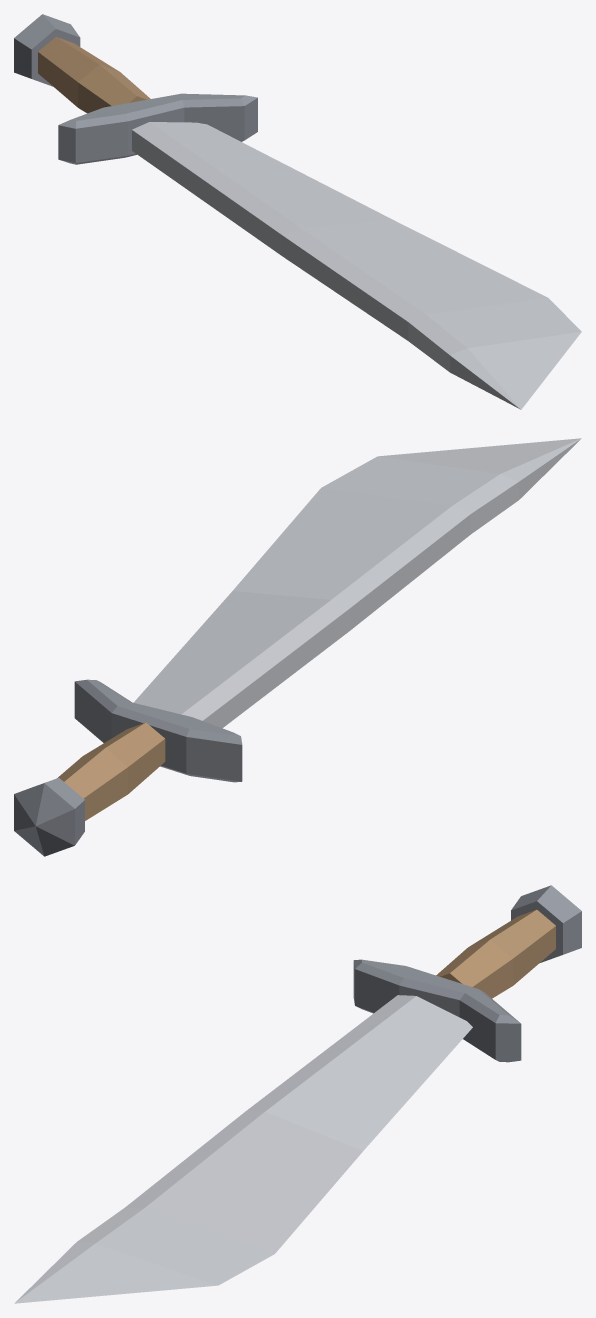
The model's file is falchion.glb.
3 views of the same model, one above another, from view 1: azimuth 30°, elevation 25°; view 2: azimuth 150°, elevation 25°; view 3: azimuth 330°, elevation 25° (orthographic). The views are drawn at different scales.
Parts seen in each view (by area): view 1: falchion; view 2: falchion; view 3: falchion.
Part boxes in pixels (bbox=[...]): falchion: bbox=[14, 14, 581, 409]; falchion: bbox=[14, 438, 581, 856]; falchion: bbox=[14, 885, 581, 1303].
Bounding box in the file's own units: 0.222 × 0.07 × 0.92.
